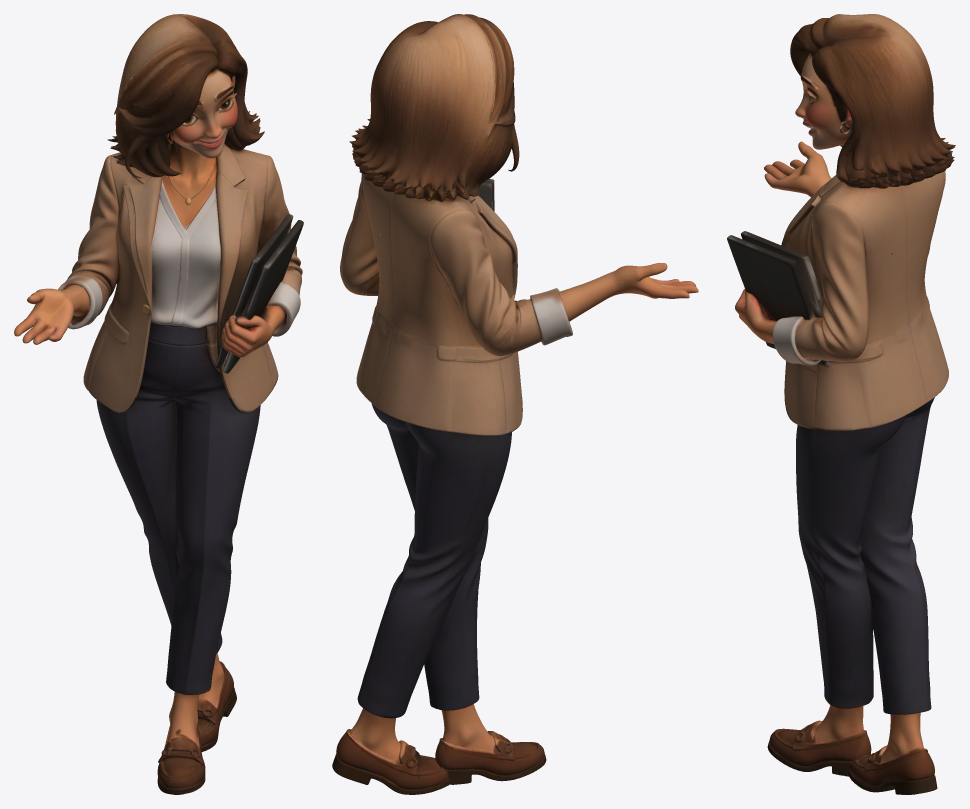
The model's file is 1780946527536-idugmccv.glb.
The picture shows the model from 3 angles, left to right: view 1: azimuth 30°, elevation 25°; view 2: azimuth 150°, elevation 25°; view 3: azimuth 270°, elevation 25°; orthographic projection. The views are drawn at different scales.
Parts seen in each view (by area): view 1: material; view 2: material; view 3: material.
Part boxes in pixels (x1,y1,x2,y2): material: (14, 14, 303, 794); material: (332, 14, 698, 794); material: (727, 14, 955, 794).
Bounding box in the file's own units: 0.5154 × 1.17 × 0.3208.
1 material, 1 textured.
